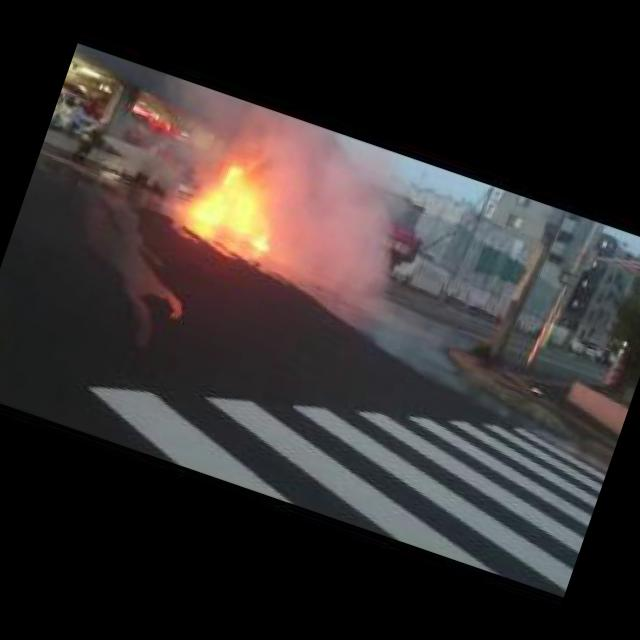fire: (178, 152, 292, 260)
smoke: (261, 128, 434, 308), (144, 72, 262, 187)
